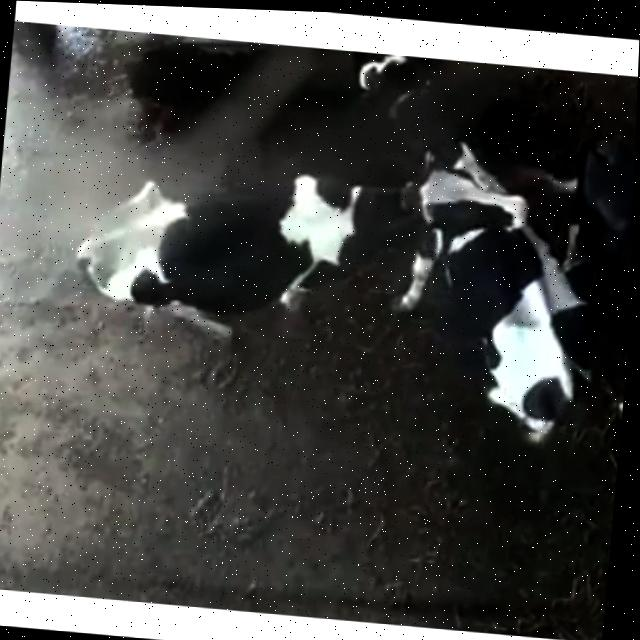propping: (352, 154, 548, 272)
